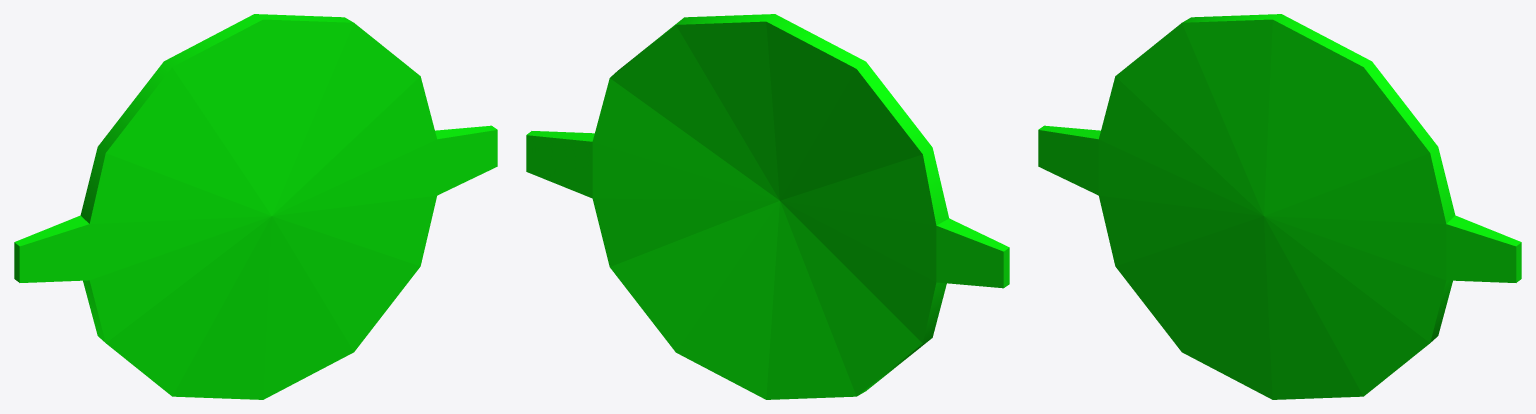
The model's file is SM_KitchenTool_16_Collider.fbx.
3 views of the same model, side by side, from view 1: azimuth 30°, elevation 25°; view 2: azimuth 150°, elevation 25°; view 3: azimuth 330°, elevation 25° (orthographic).
Visible parts, largest first — view 1: SM_KitchenTool_16_Collider; view 2: SM_KitchenTool_16_Collider; view 3: SM_KitchenTool_16_Collider.
Part boxes in pixels (x1=…): SM_KitchenTool_16_Collider: x1=14, y1=14, x2=497, y2=399; SM_KitchenTool_16_Collider: x1=526, y1=14, x2=1009, y2=399; SM_KitchenTool_16_Collider: x1=1038, y1=14, x2=1521, y2=399.
Size of the model in its own units: 30.7 by 23.36 by 2.17.
